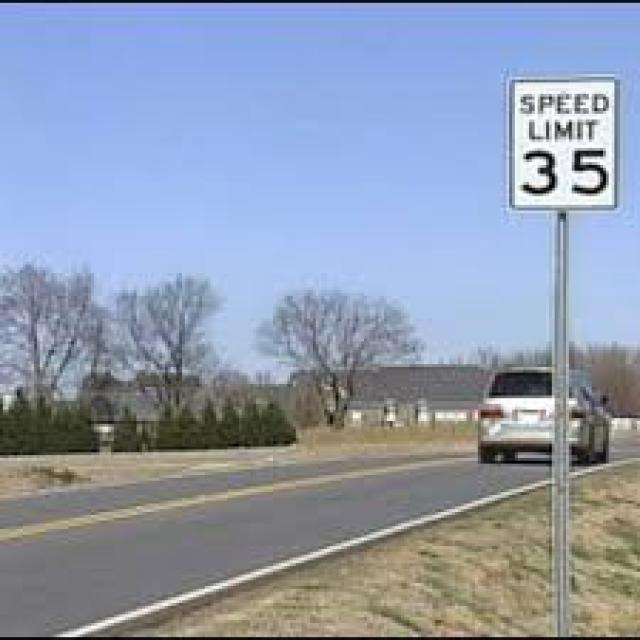speedLimit35: (508, 77, 618, 210)
